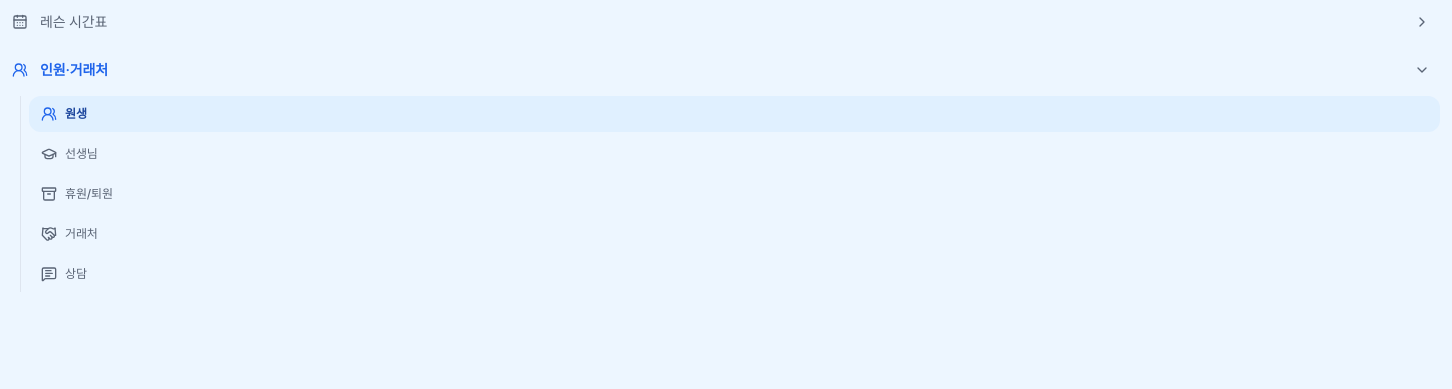
it: 사이드바 하위 메뉴 › 모바일도 같은 기본 펼침과 클릭 동작을 쓴다
Expected: the link "학원레슨표" is not shown
Expected: the link "원생" is shown, [29, 96, 1440, 132]
Click the button named "레슨 시간표 하위 메뉴 펼치기" at (1422, 22), box [1404, 4, 1440, 40]
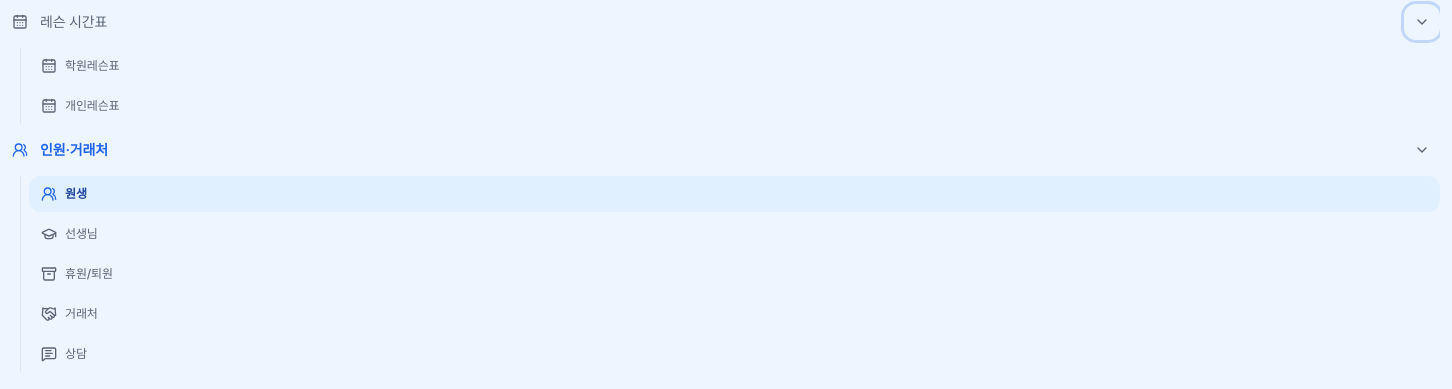
Result: the link "학원레슨표" is shown at [41, 58, 119, 74]
Click the button named "인원·거래처 하위 메뉴 접기" at (1422, 150), box [1404, 132, 1440, 168]
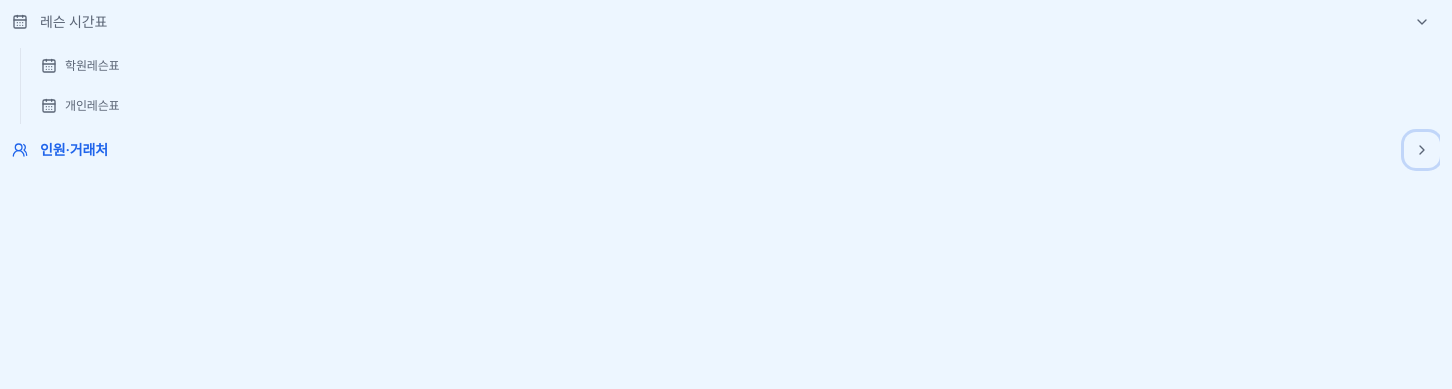
Result: the link "원생" is gone
